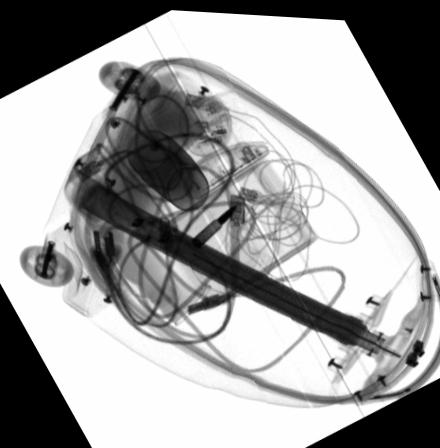Bullet: (190, 199, 237, 244)
